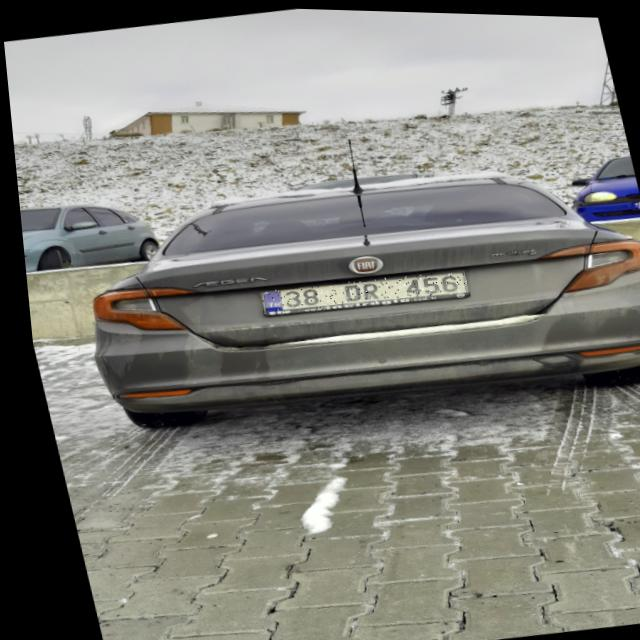license_plate: (252, 261, 466, 319)
